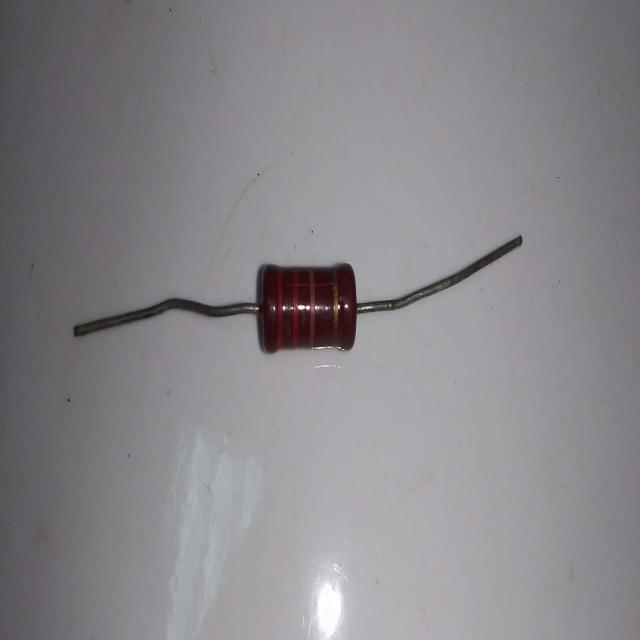Carbon Resistor: (74, 236, 536, 366)
